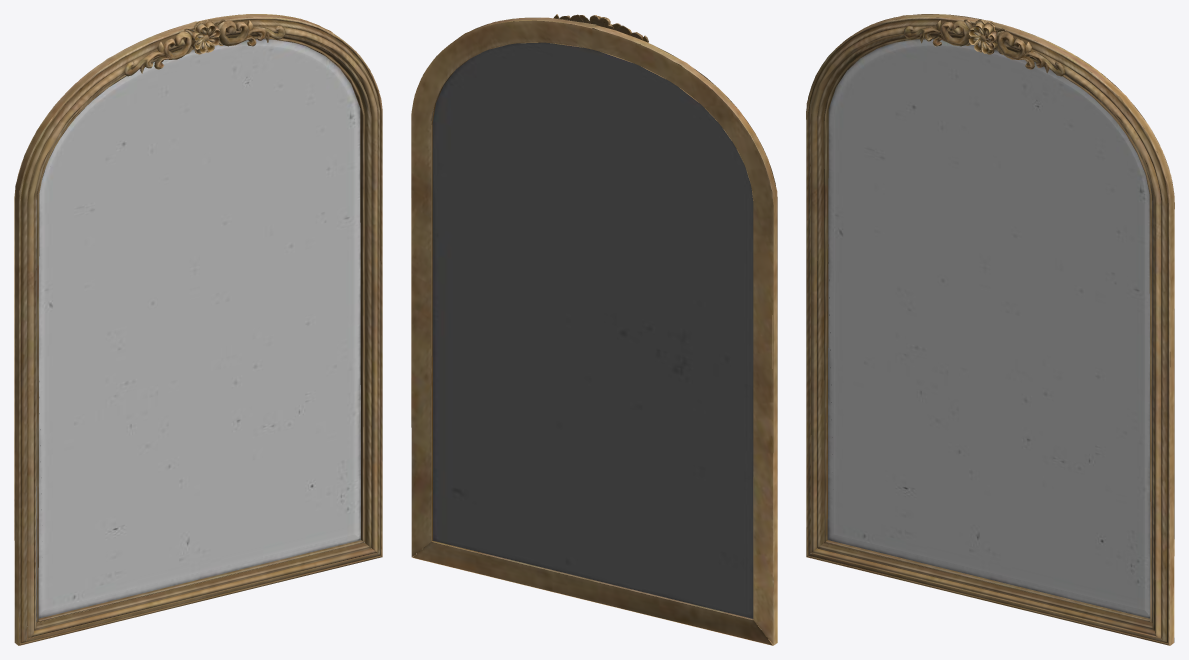
File: ph_ornate_mirror_01.glb
3 views of the same model, side by side, from view 1: azimuth 30°, elevation 25°; view 2: azimuth 150°, elevation 25°; view 3: azimuth 330°, elevation 25° (orthographic).
Visible parts, largest first — view 1: ornate_mirror_01; view 2: ornate_mirror_01; view 3: ornate_mirror_01.
Boxes of the visible parts, box(x1,y1,x2,y2) form: ornate_mirror_01: box(14, 14, 382, 645); ornate_mirror_01: box(411, 14, 777, 645); ornate_mirror_01: box(806, 14, 1174, 645).
Size of the model in its own units: 0.4864 by 0.7441 by 0.026.
Materials: 1 (1 with a texture image).
